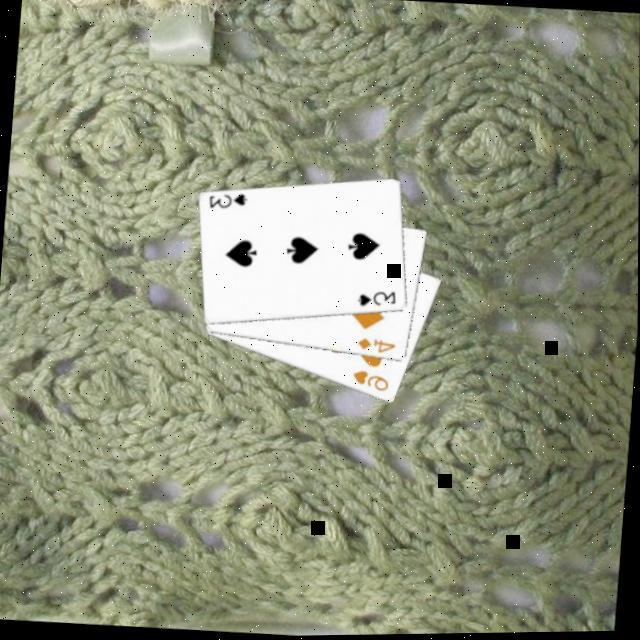3S: (354, 285, 399, 311), (205, 187, 250, 213)
4D: (354, 333, 398, 357)
9H: (348, 365, 392, 395)
